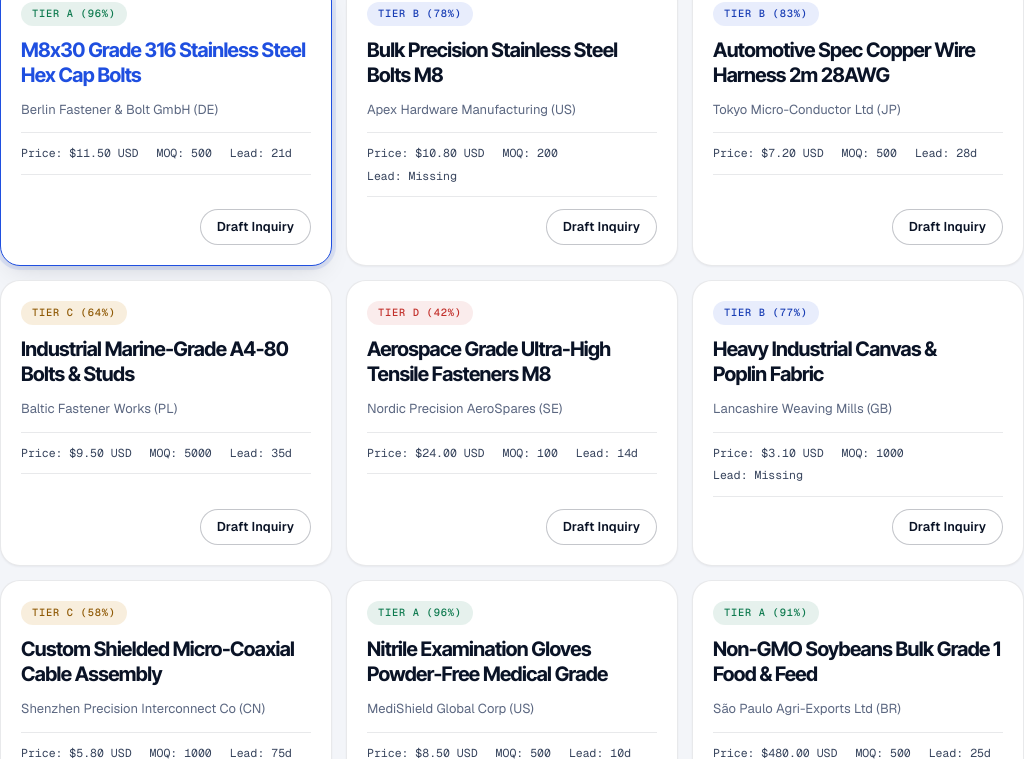
Test: SourcingHub Frontend Test Suite › Tier 1: UI Feature Coverage › 1.6 opens gap analysis inspector drawer displaying MISSING, AMBIGUOUS, and NON_COMPLIANT items
The image size is (1024, 759).
(page scrolled)
Note: Click Baltic Fastener card (which has an MOQ gap)
Click the element with test id "listing-card-00000000-0000-4000-8000-000000000104".
click(166, 423)  # box [0,280,332,566]
(page scrolled)
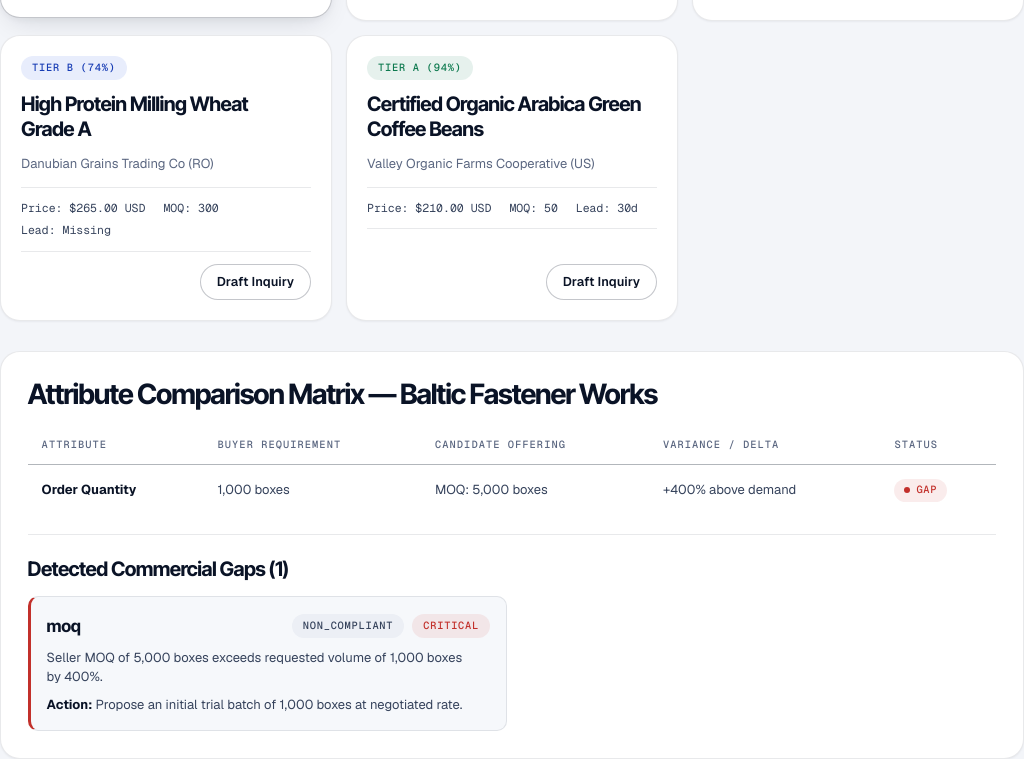
Result: the text "NON_COMPLIANT" is shown at [292,614,404,638]
Result: the text "CRITICAL" is shown at [412,614,490,638]
Result: the text "exceeds requested volume" is shown at [47,649,462,685]
